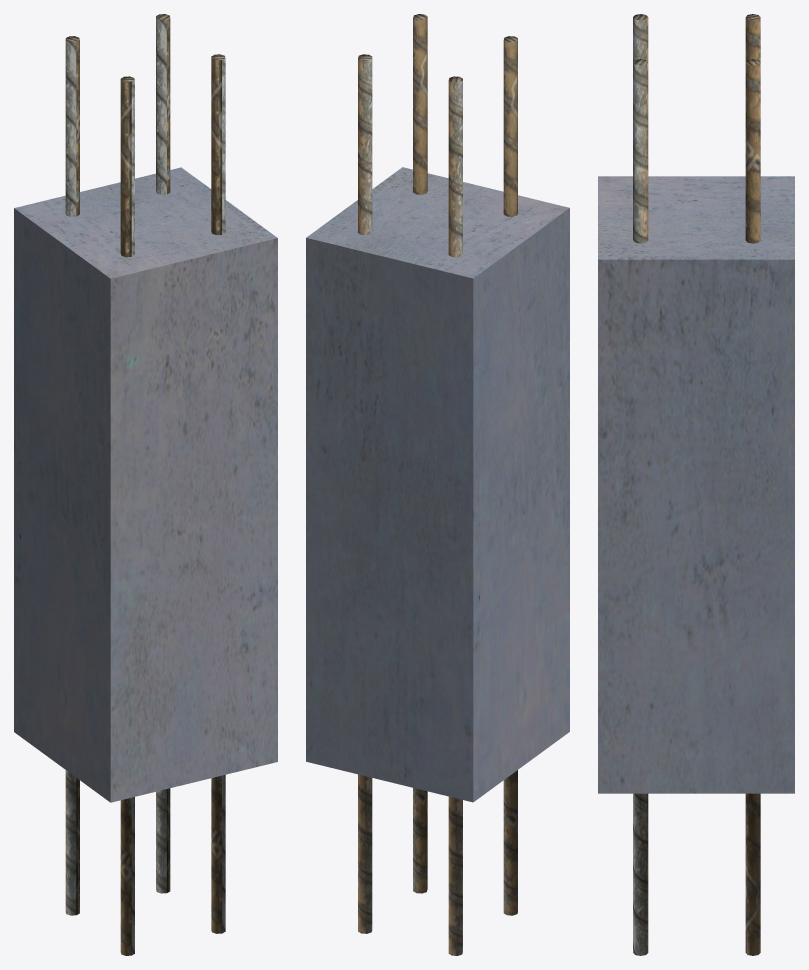
File: ReinfocedConcrete.fbx
3 renders of one model, left to right at view 1: azimuth 30°, elevation 25°; view 2: azimuth 150°, elevation 25°; view 3: azimuth 270°, elevation 25°, orthographic.
Parts seen in each view (by area): view 1: Block, Poles; view 2: Block, Poles; view 3: Block, Poles.
Part boxes in pixels (left/top/right/bottom): Block: left=14, top=167, right=277, bottom=802; Poles: left=65, top=14, right=225, bottom=955; Block: left=306, top=167, right=569, bottom=802; Poles: left=358, top=14, right=517, bottom=955; Block: left=598, top=176, right=794, bottom=793; Poles: left=633, top=14, right=760, bottom=955.
Size of the model in its own units: 200 by 998 by 200.
